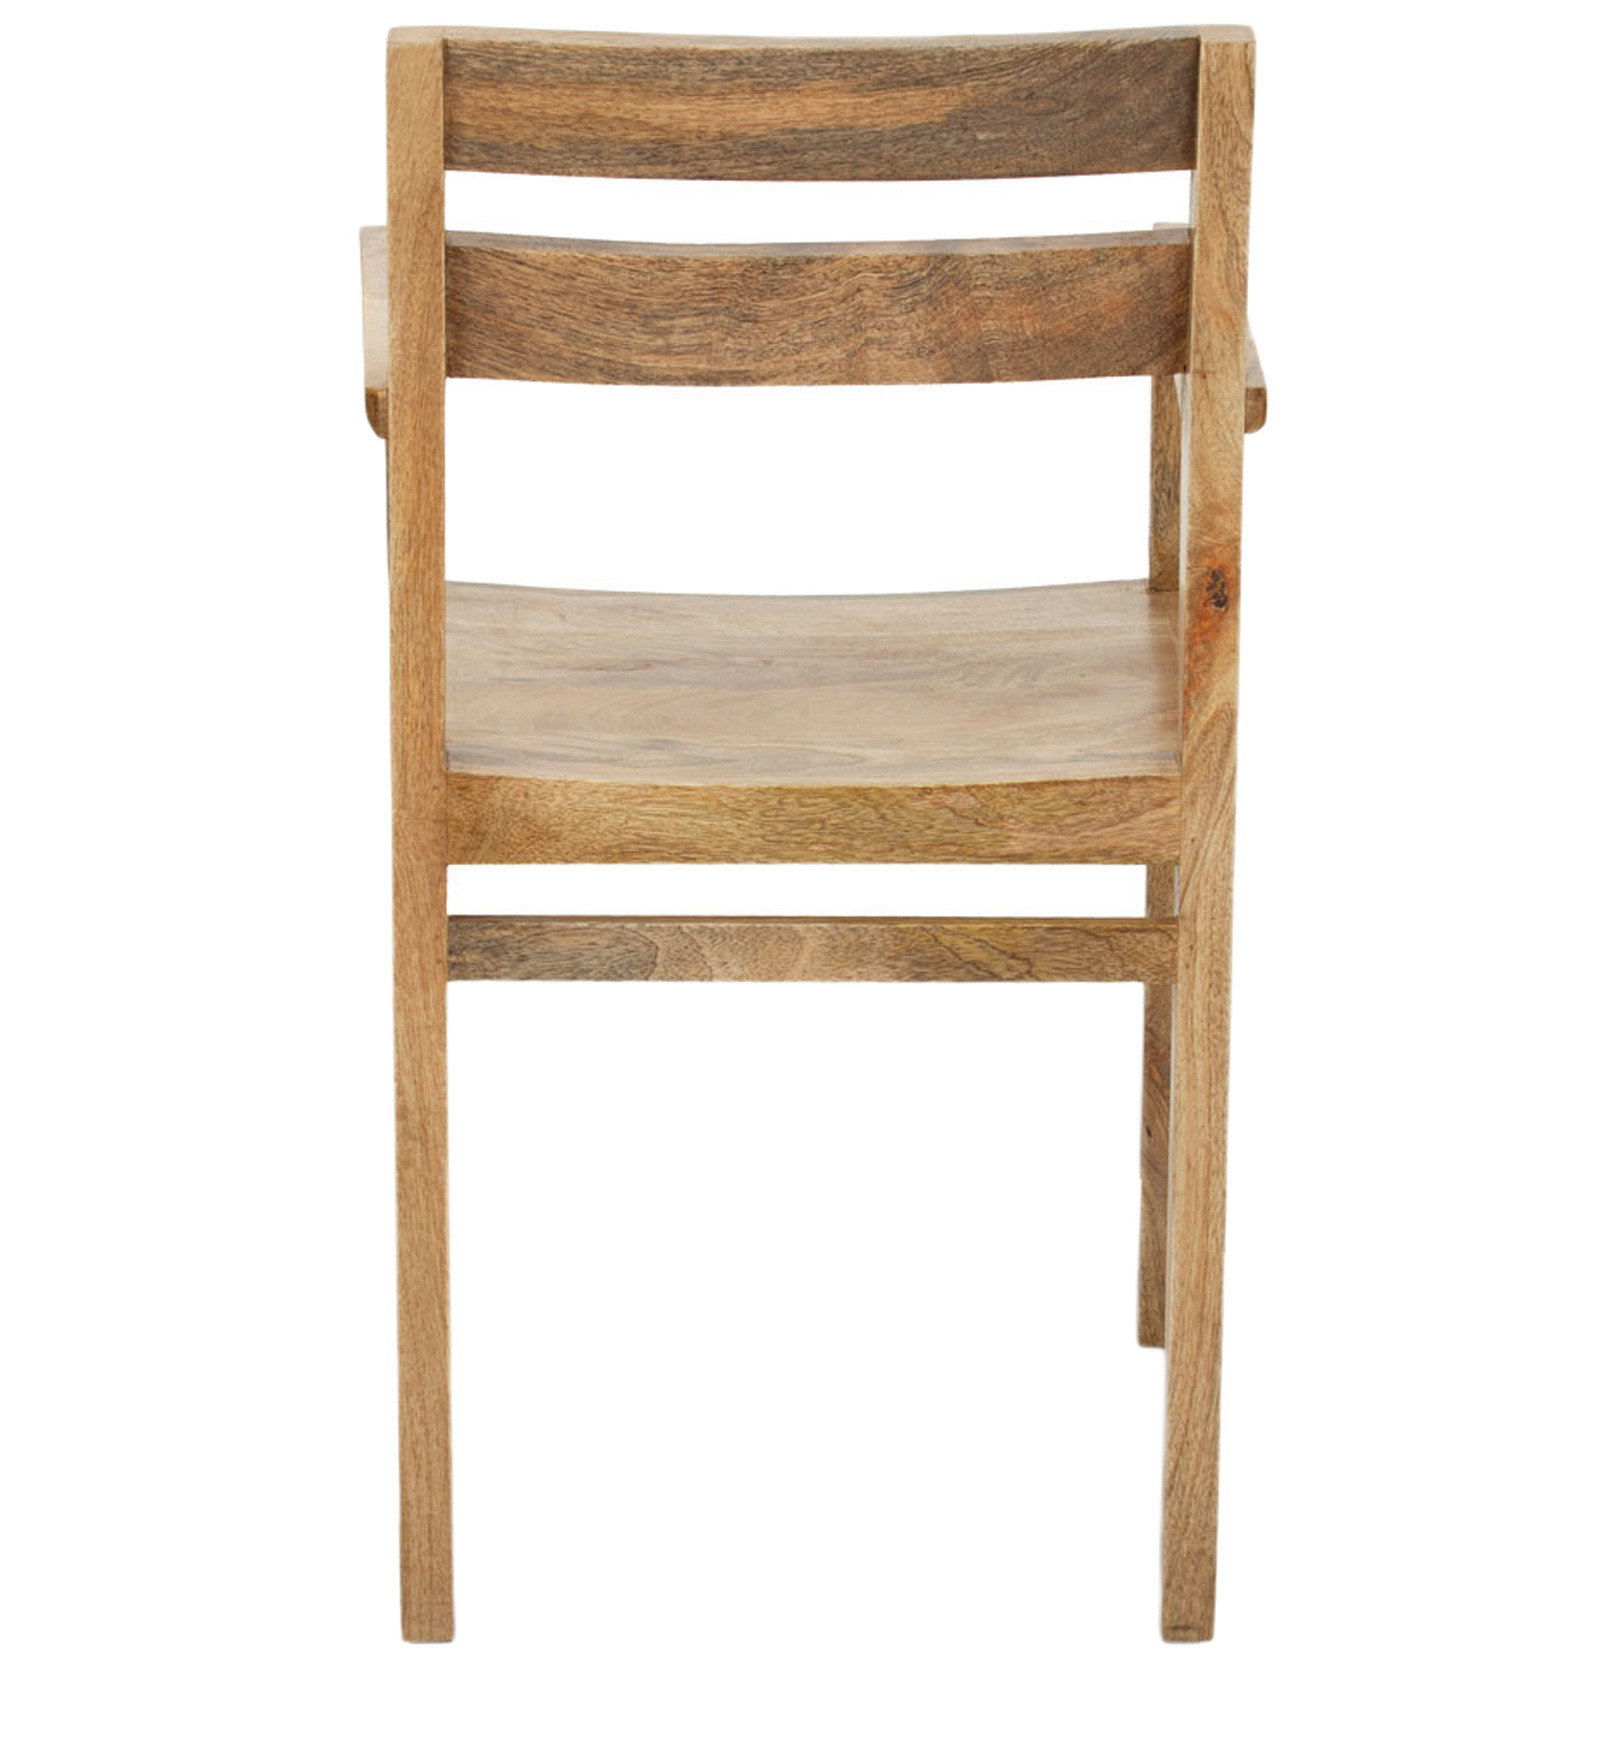Barcelona Solid Wood Arm Chair in Natural Finish by TheArmchair: (297, 15, 1244, 1685)
